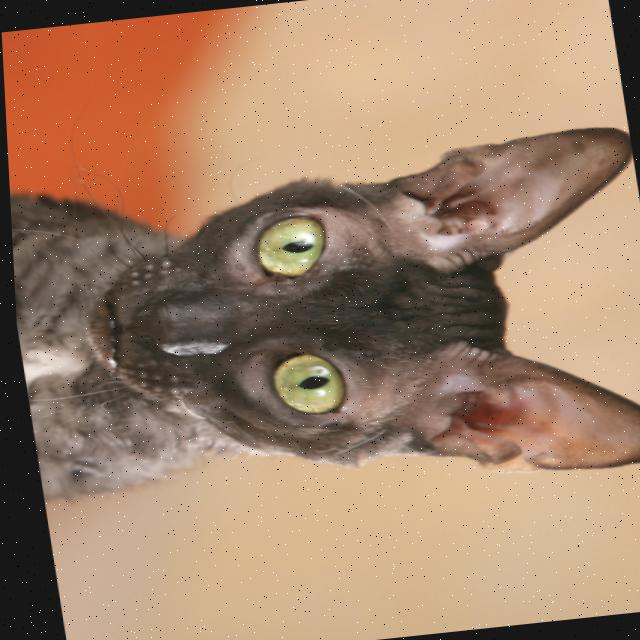Cornish Rex: (4, 106, 640, 531)
